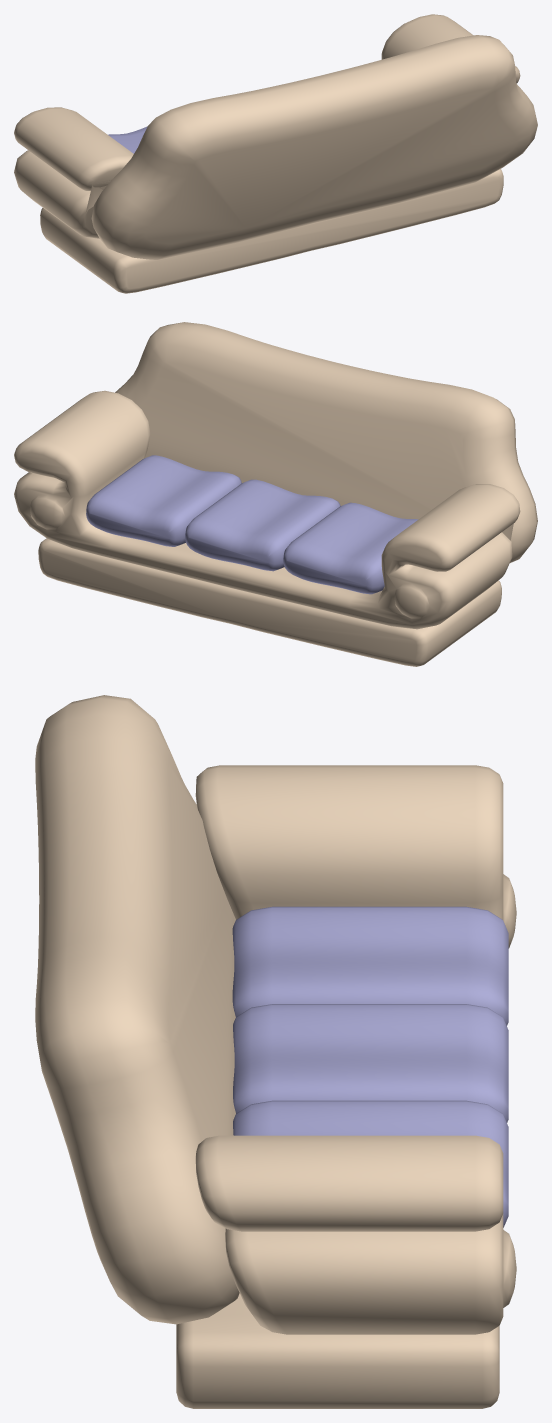
File: LBSR_Couch_sofa.fbx
3 views of the same model, one above another, from view 1: azimuth 30°, elevation 25°; view 2: azimuth 150°, elevation 25°; view 3: azimuth 270°, elevation 25° (orthographic). The views are drawn at different scales.
Parts seen in each view (by area): view 1: back, bottom, sides, cushion; view 2: back, sides, bottom, cushion.001, cushion.002, cushion; view 3: sides, back, cushion, cushion.002, bottom, cushion.001.
Part boxes in pixels (<box>): back: <box>91,35,537,259</box>; bottom: <box>40,169,503,293</box>; sides: <box>14,14,520,238</box>; cushion: <box>108,126,147,153</box>; back: <box>115,322,537,562</box>; sides: <box>14,390,520,629</box>; bottom: <box>38,538,501,666</box>; cushion.001: <box>86,455,241,546</box>; cushion.002: <box>185,479,340,571</box>; cushion: <box>283,502,418,594</box>; sides: <box>195,765,516,1334</box>; back: <box>35,695,239,1324</box>; cushion: <box>232,906,508,1025</box>; cushion.002: <box>233,1004,508,1122</box>; bottom: <box>176,1293,499,1408</box>; cushion.001: <box>233,1100,508,1227</box>.
Size of the model in its own units: 7.97 by 3.36 by 3.77.
